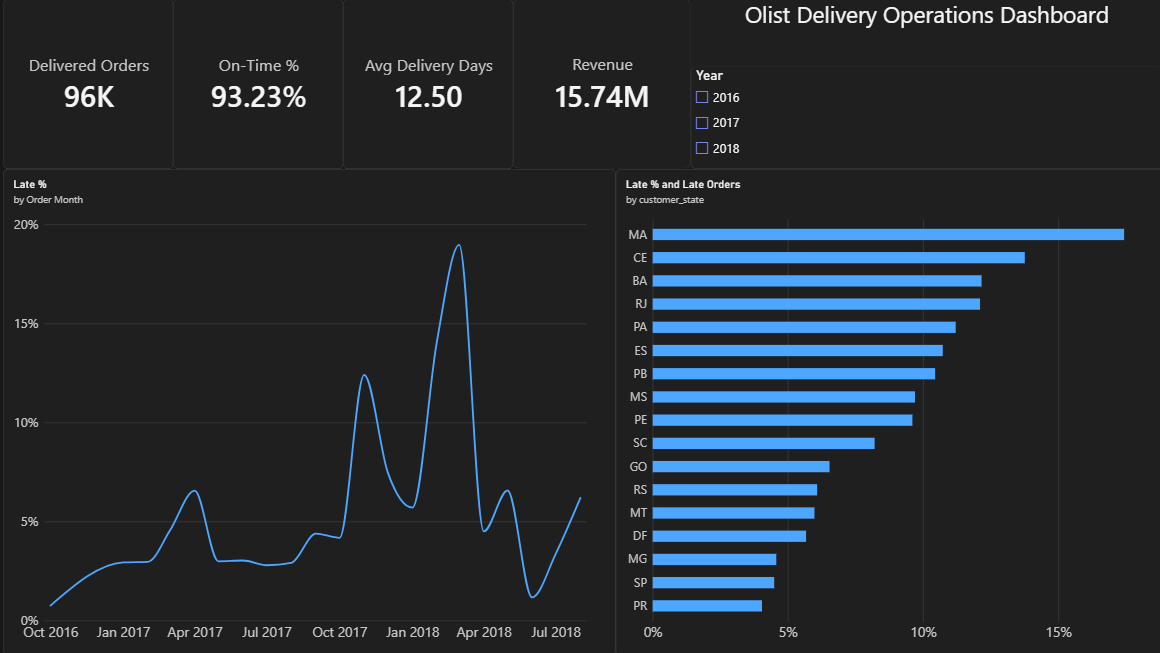

The dashboard page shown, as its layout file describes it:
{"tool":"powerbi","page":{"name":"Page 1","canvas":[1920,1080],"ordinal":0},"visuals":[{"type":"cardVisual","fields":{"Data":["orders.Delivered Orders"]},"box":[10,0,280,280],"z":0},{"type":"cardVisual","fields":{"Data":["orders.On-Time %"]},"box":[290.2,0,280,280],"z":1000},{"type":"cardVisual","fields":{"Data":["orders.Avg Delivery Days"]},"box":[570.2,0,280,280],"z":2000},{"type":"cardVisual","fields":{"Data":["orders.Revenue"]},"box":[850.1,0,292.3,279.9],"z":3000},{"type":"lineChart","fields":{"Category":["orders.Order Month"],"Y":["orders.Late %"]},"box":[10.3,279.9,1008.6,800.7],"z":4000},{"type":"clusteredBarChart","fields":{"Category":["orders.customer_state"],"Y":["orders.Late %"]},"box":[1018.9,279.9,901.5,800.7],"z":5000},{"type":"slicer","fields":{"Values":["orders.purchase_ts.Variation.Date Hierarchy.Year"]},"box":[1142.4,111.1,778,168.8],"z":6000},{"type":"textbox","box":[1142.4,0,778,111.1],"z":7000}]}

Visuals, with their boxes in screenshot pixels (x1, y1, x2, y2), scaled from the page's 1920x1080 canvas onto the 1160x653 screenshot:
cardVisual - orders.Delivered Orders: bbox=(6, 0, 175, 169)
cardVisual - orders.On-Time %: bbox=(175, 0, 344, 169)
cardVisual - orders.Avg Delivery Days: bbox=(344, 0, 514, 169)
cardVisual - orders.Revenue: bbox=(514, 0, 690, 169)
lineChart - orders.Order Month x orders.Late %: bbox=(6, 169, 616, 652)
clusteredBarChart - orders.customer_state x orders.Late %: bbox=(616, 169, 1159, 652)
slicer - orders.purchase_ts.Variation.Date Hierarchy.Year: bbox=(690, 67, 1159, 169)
textbox: bbox=(690, 0, 1159, 67)
